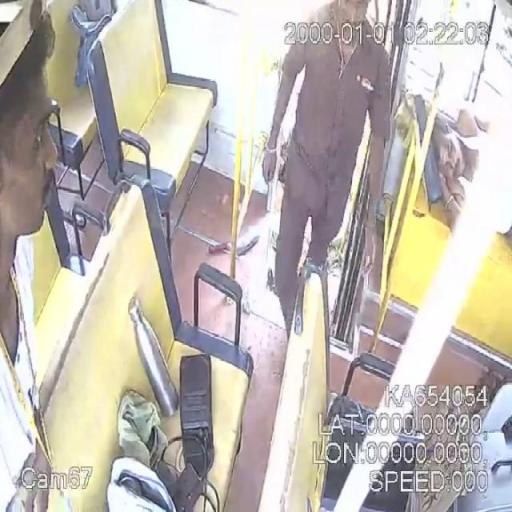persona: (260, 0, 394, 342), (1, 1, 63, 511)
